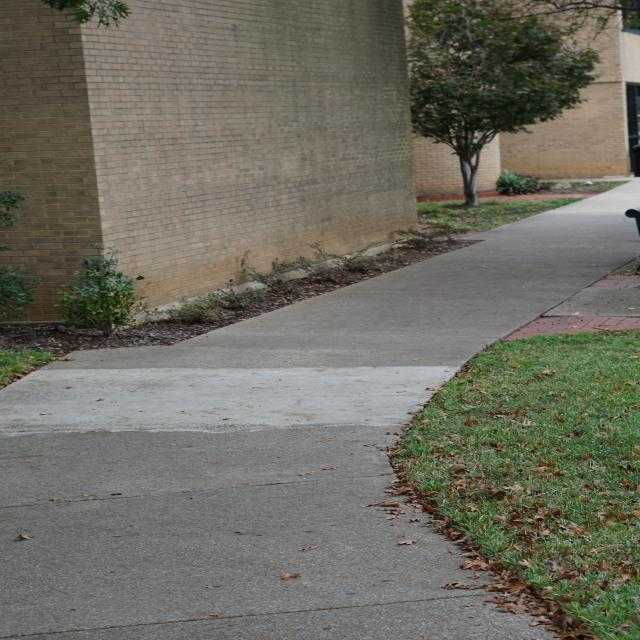Sidewalk: (0, 178, 640, 640)
